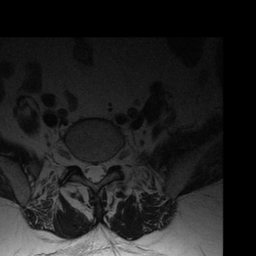CCS_normal: (90, 154, 99, 189)
LFS_normal: (107, 149, 115, 174)
LLS_normal: (98, 154, 107, 185)
RFS_normal: (73, 147, 81, 174)
RLS_normal: (82, 154, 90, 185)
